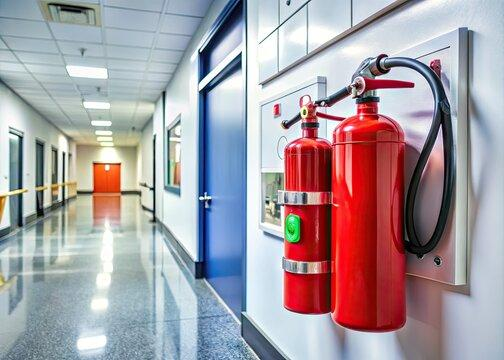wall-mounted: (328, 55, 455, 335), (279, 85, 338, 316)
